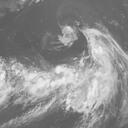cyclone: (57, 25, 105, 63)
